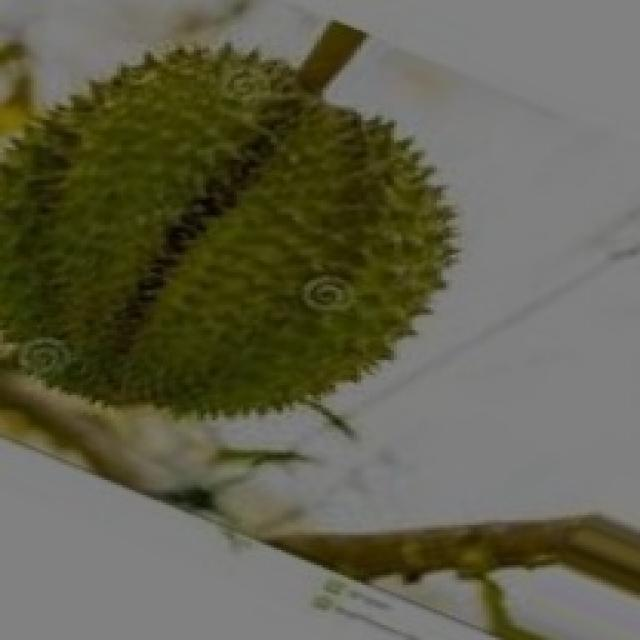fruit: (102, 42, 504, 478)
